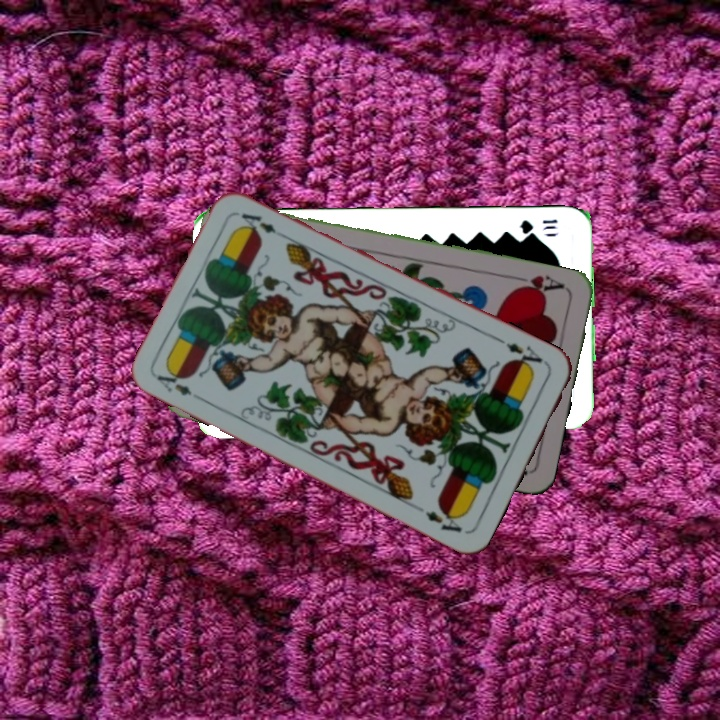EA: (152, 365, 207, 404), (502, 338, 551, 373)
G10: (516, 215, 560, 236)
HA: (510, 271, 569, 298)
